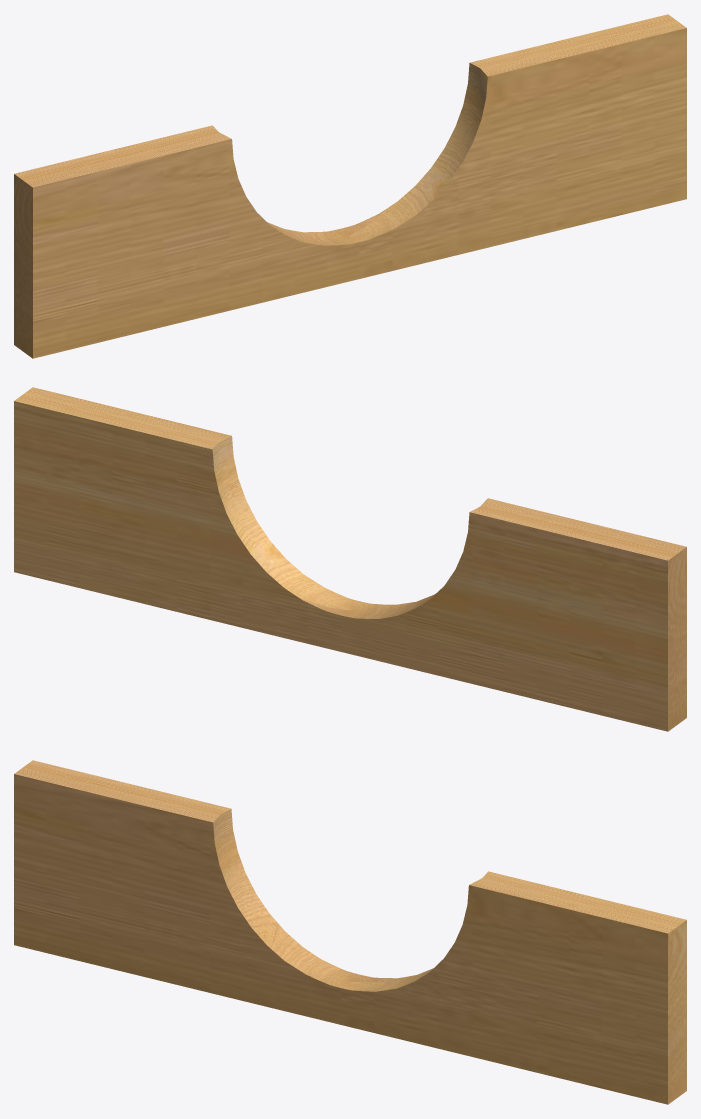
3 views of the same model, one above another, from view 1: azimuth 30°, elevation 25°; view 2: azimuth 150°, elevation 25°; view 3: azimuth 330°, elevation 25° (orthographic).
Visible parts, largest first — view 1: pasted__pCube4; view 2: pasted__pCube4; view 3: pasted__pCube4.
Part boxes in pixels (left/top/right/bottom): pasted__pCube4: left=14, top=14, right=686, bottom=358; pasted__pCube4: left=14, top=387, right=686, bottom=731; pasted__pCube4: left=14, top=760, right=686, bottom=1104.
Bounding box in the file's own units: 20 × 5 × 1.
1 material, 1 textured.
